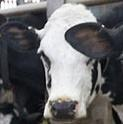muzzles: (41, 97, 87, 122)
